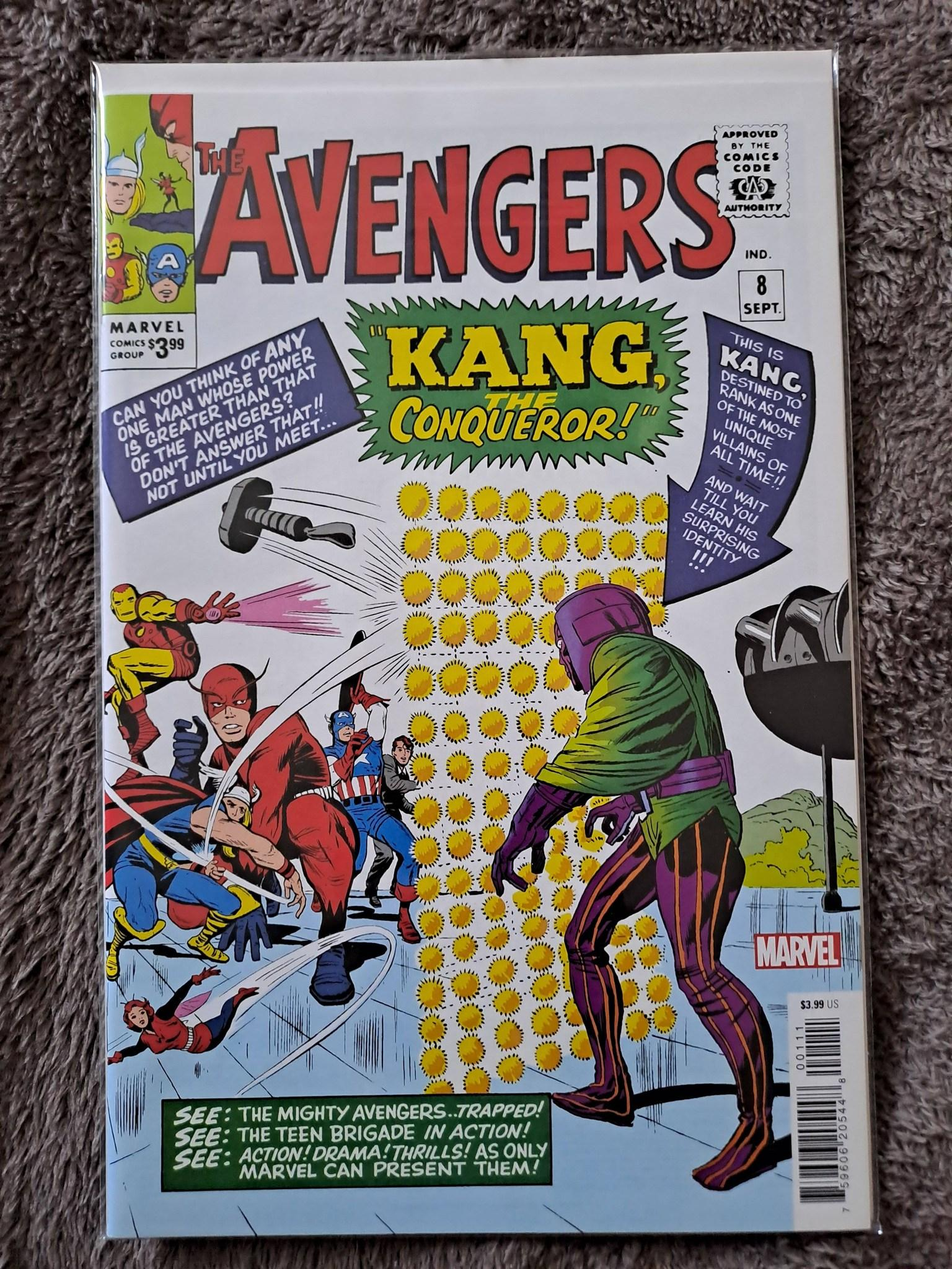comic: (92, 52, 874, 1239)
